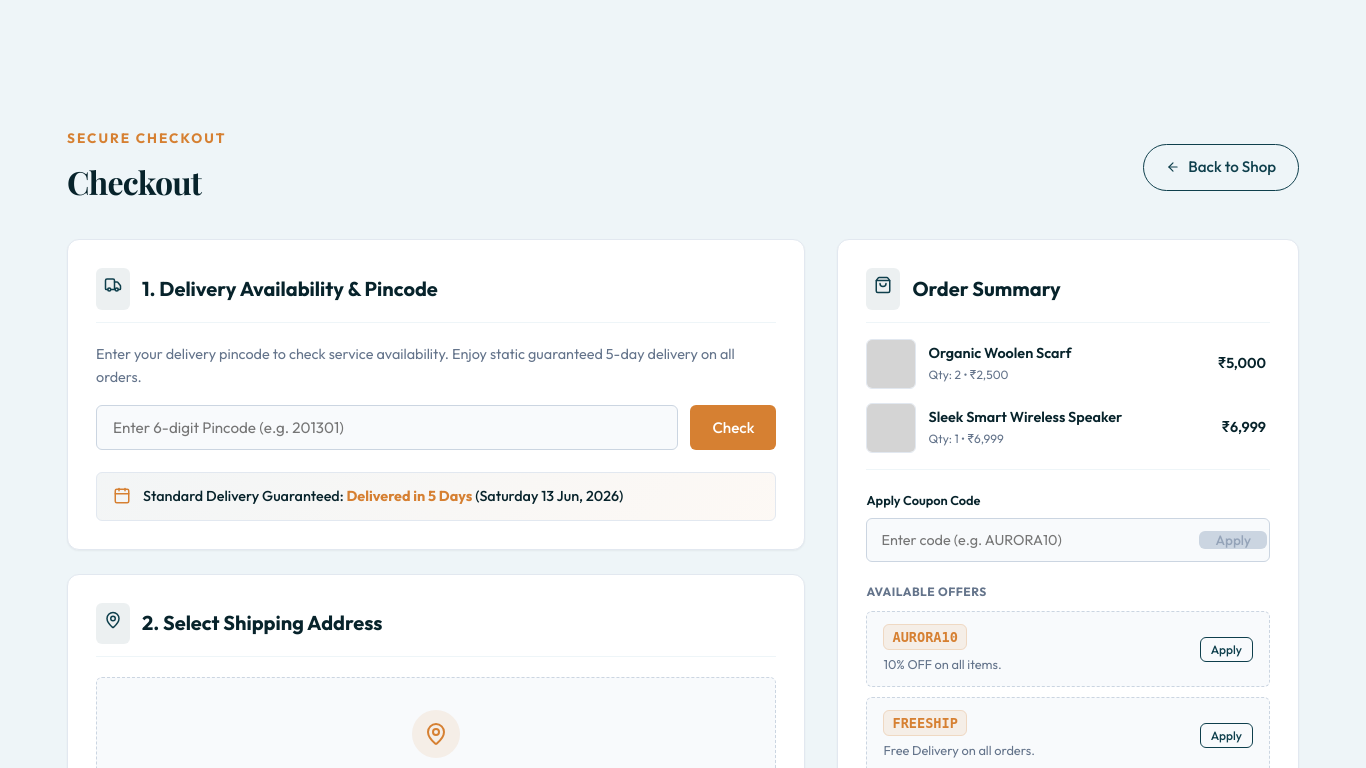
Test case: Checkout Page › validates pincode inputs showing error or standard success messages
Test empty pincode
Step 1. Click the button "Check" → (733, 427), box [690, 405, 776, 450]
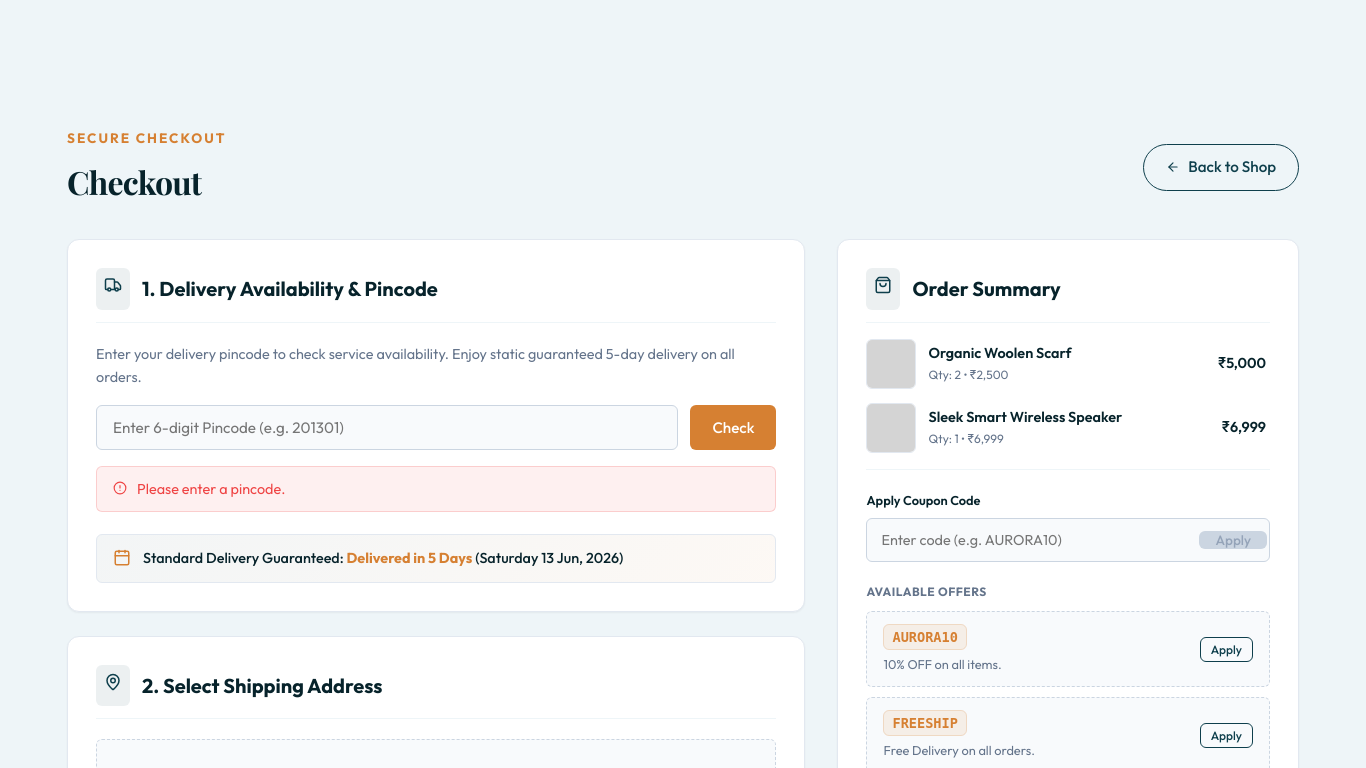
Expected: the text "Please enter a pincode." is shown, [137, 479, 285, 499]
Test invalid pincode (letters or wrong length)
Step 2. Type "123" into the field with placeholder "Enter 6-digit Pincode (e.g. 201301)" → (387, 427), box [96, 405, 678, 450]
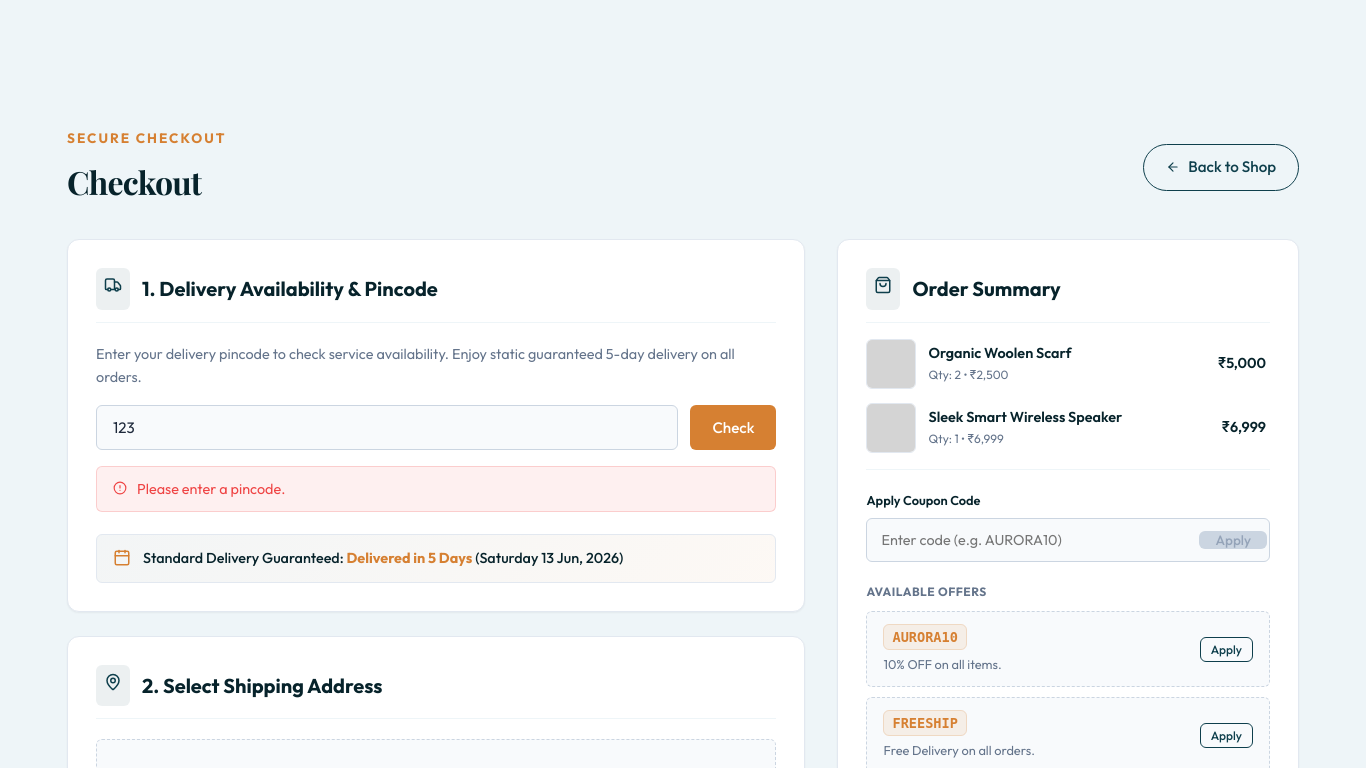
Step 3. Click the button "Check" → (733, 427), box [690, 405, 776, 450]
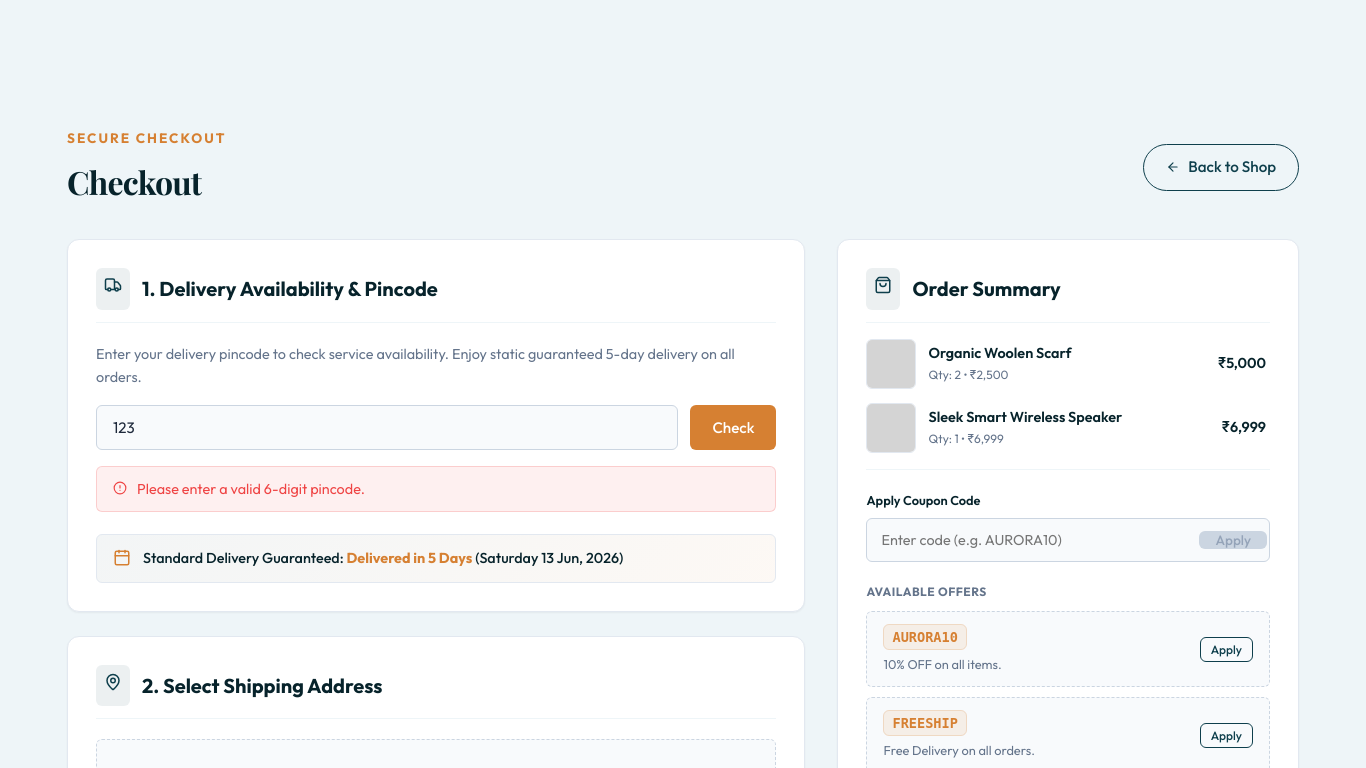
Expected: the text "Please enter a valid 6-digit pincode." is shown, [137, 479, 365, 499]
Step 4. Replace the text in the field with placeholder "Enter 6-digit Pincode (e.g. 201301)" with "201301" → (387, 427), box [96, 405, 678, 450]
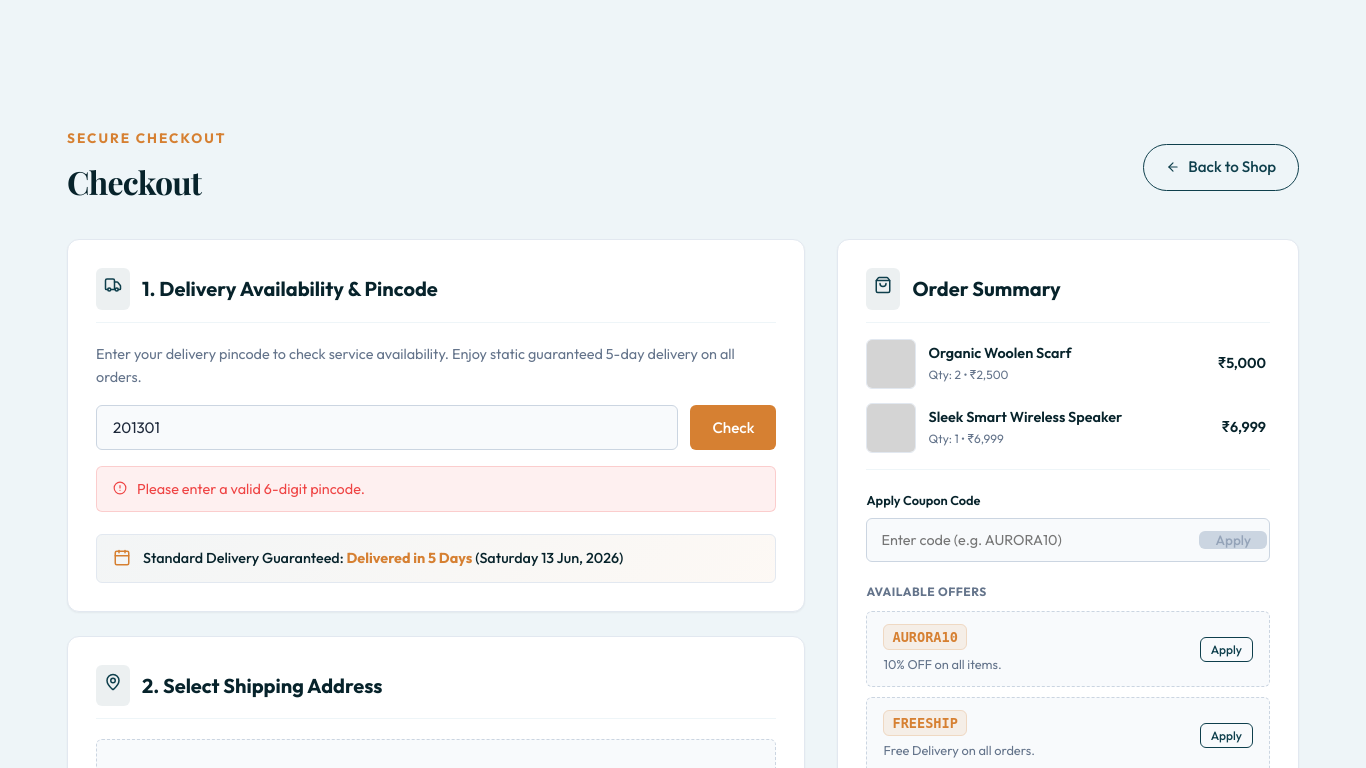
Step 5. Click the button "Check" → (733, 427), box [690, 405, 776, 450]
Wait 600 ms
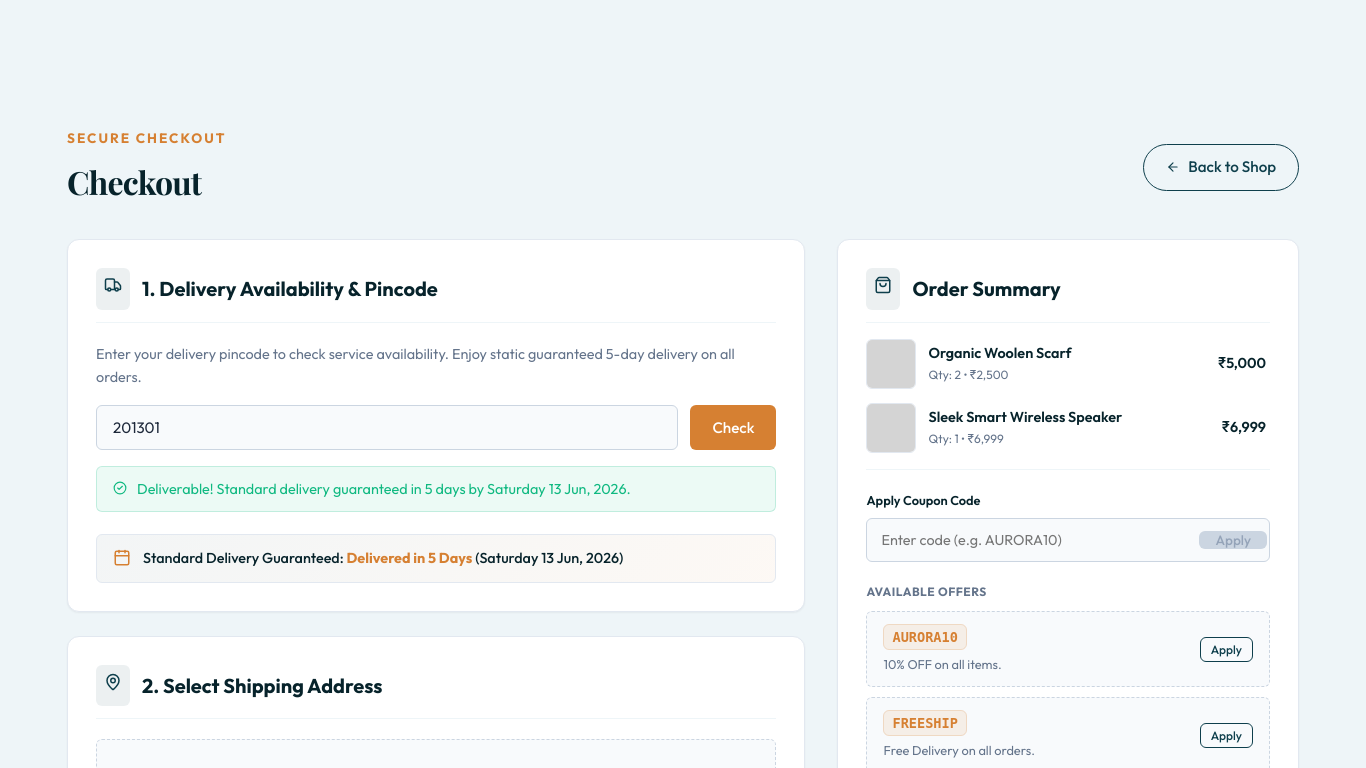
Expected: the text "Deliverable! Standard delivery guaranteed in 5 days" is shown, [137, 480, 631, 498]
